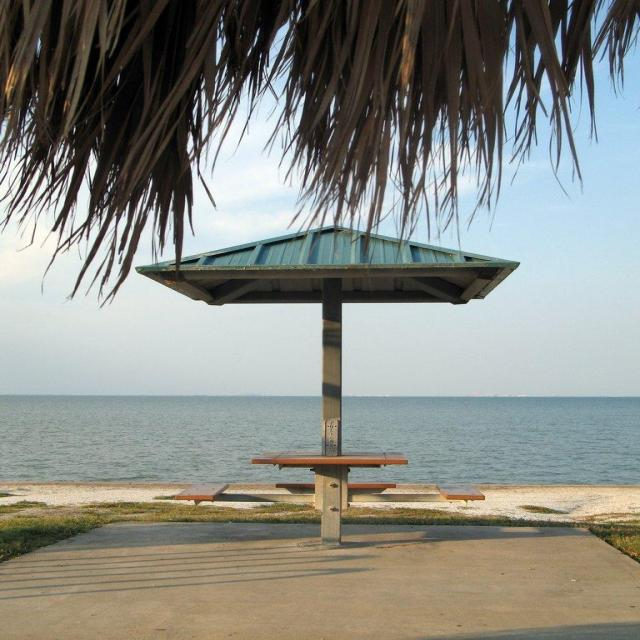table: (248, 449, 410, 464)
